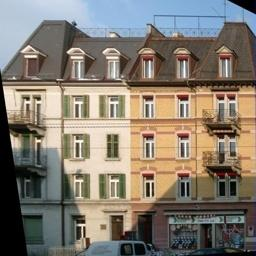building: (129, 18, 256, 239)
